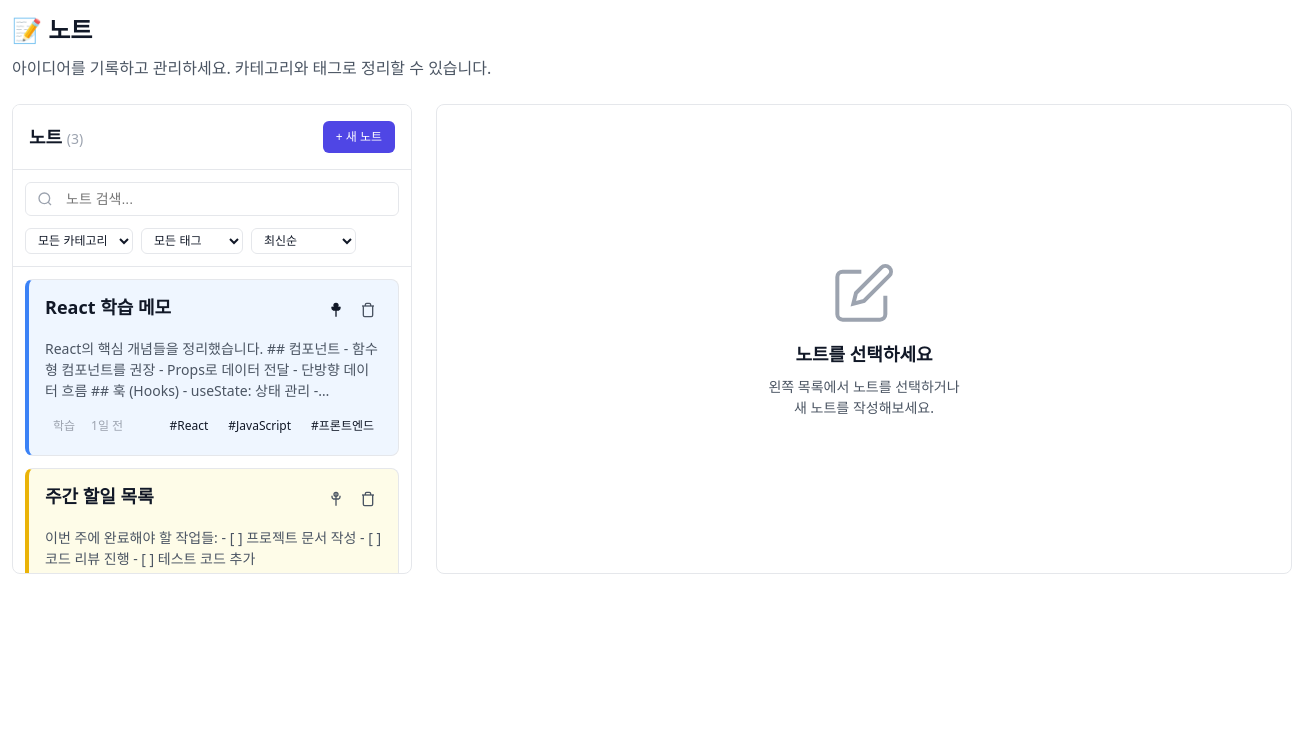
Scenario: Notes Page › 노트를 선택하면 에디터에 표시된다
Click the heading "React 학습 메모": (108, 308) [45, 296, 171, 319]
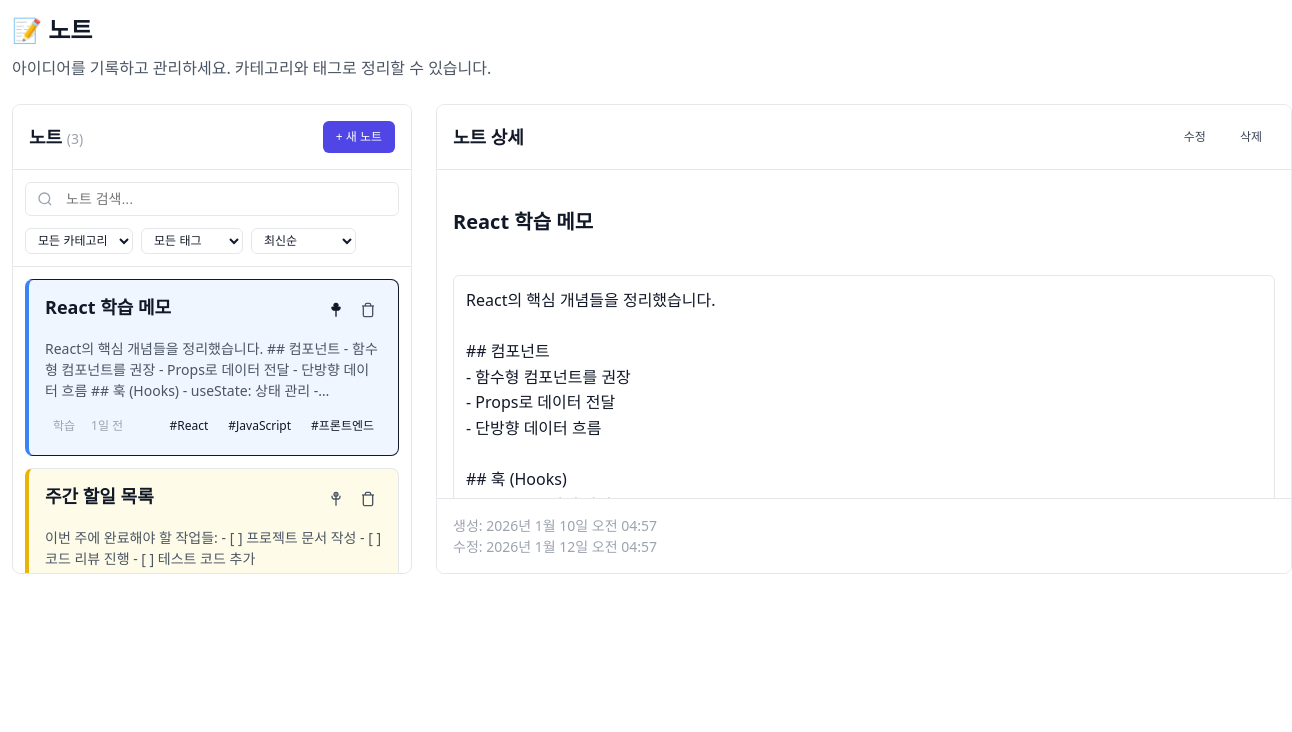
Now the heading "노트 상세" is shown, box [453, 124, 524, 150]
